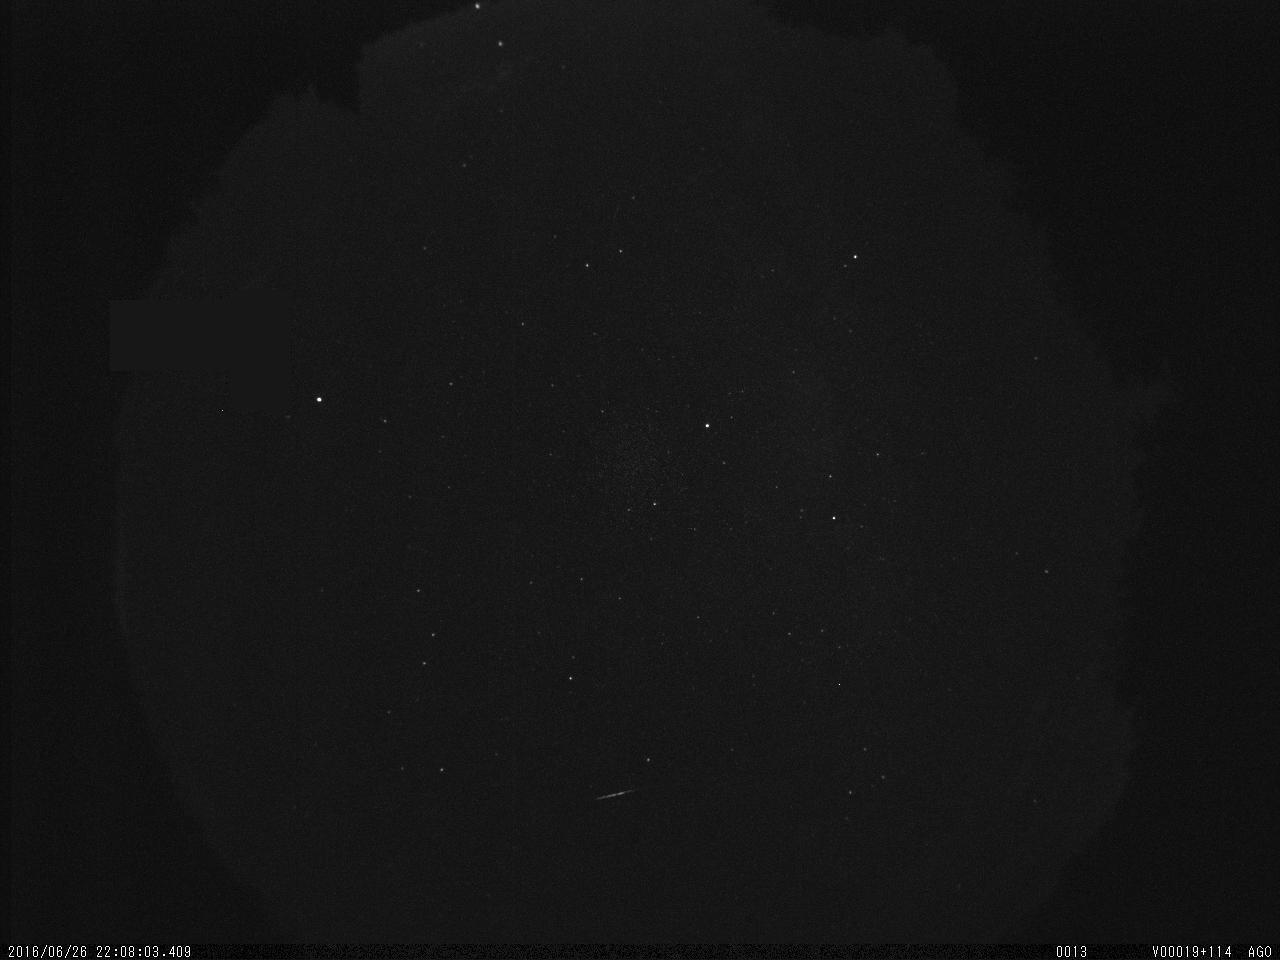Meteor: (594, 784, 636, 803)
